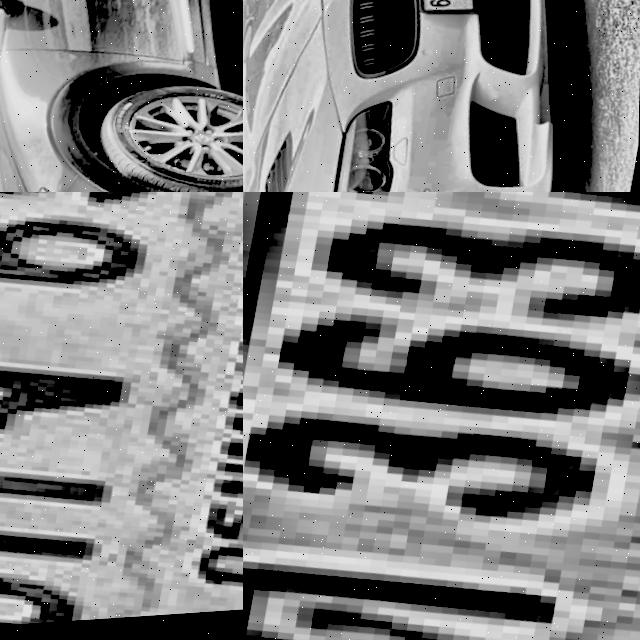license-plate: (243, 192, 640, 640), (0, 192, 243, 640), (397, 0, 503, 37)
